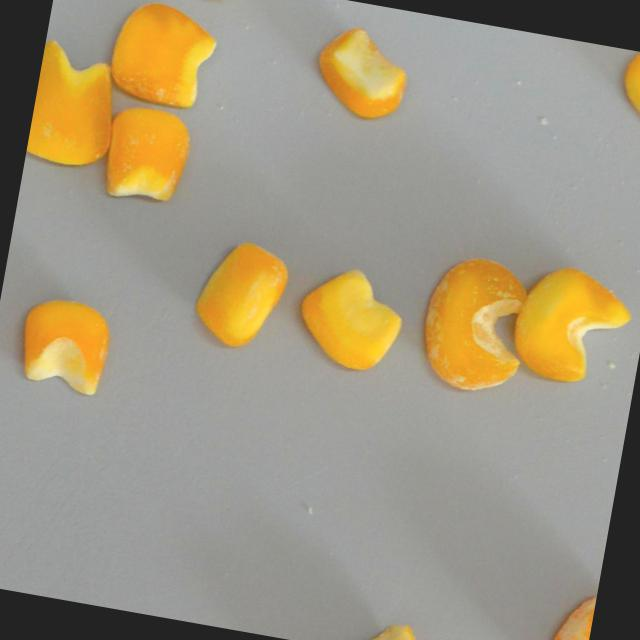no_canjicado: (506, 262, 636, 392), (290, 261, 408, 378), (187, 234, 293, 353), (309, 21, 415, 124), (13, 292, 115, 395)
pelicula: (414, 245, 536, 397), (24, 39, 124, 173), (104, 0, 220, 110), (99, 100, 194, 208), (331, 612, 443, 640), (550, 583, 597, 640), (613, 49, 640, 129)
